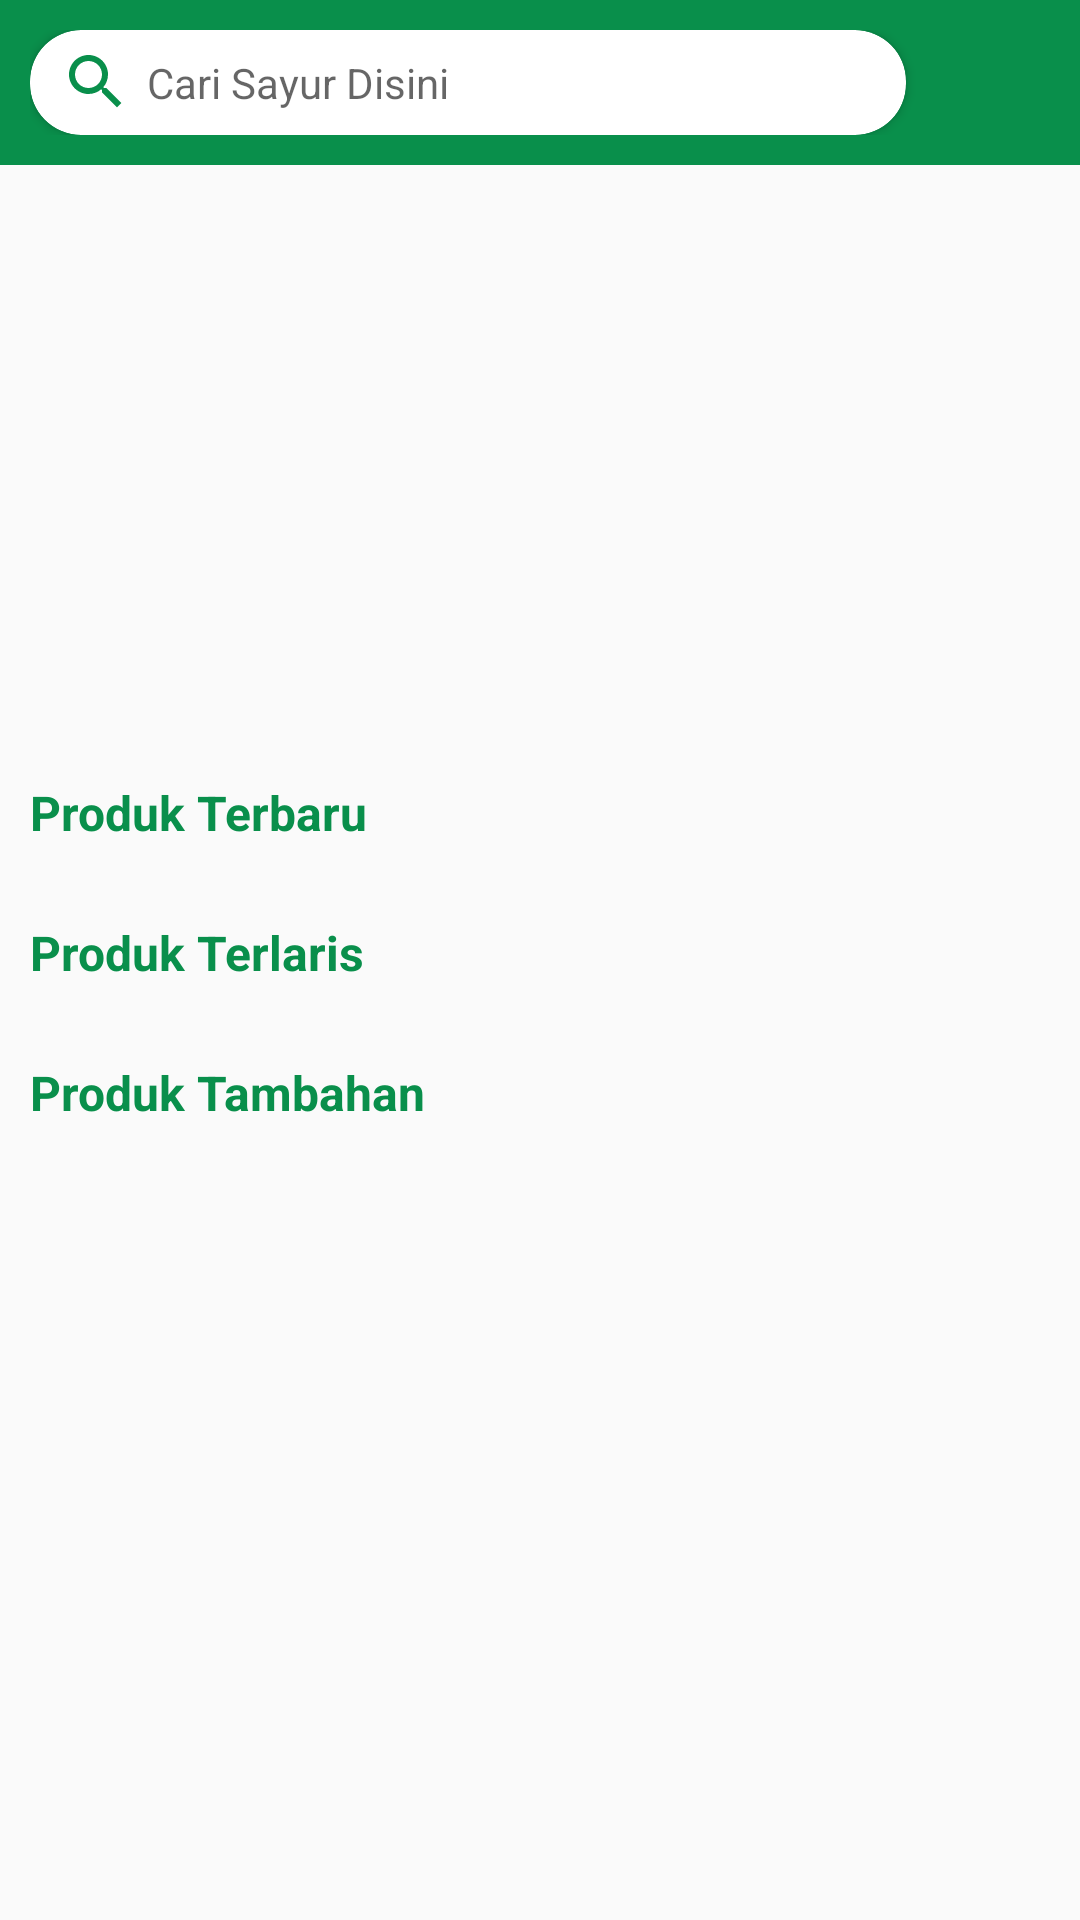

Named icons in this screenshot (1080 x 1920) and their bounding boxes, [left=x1, top=y1, right=x2, bottom=y2]:
search: [left=69, top=55, right=121, bottom=107]
